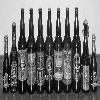beer: (53, 30, 63, 94)
